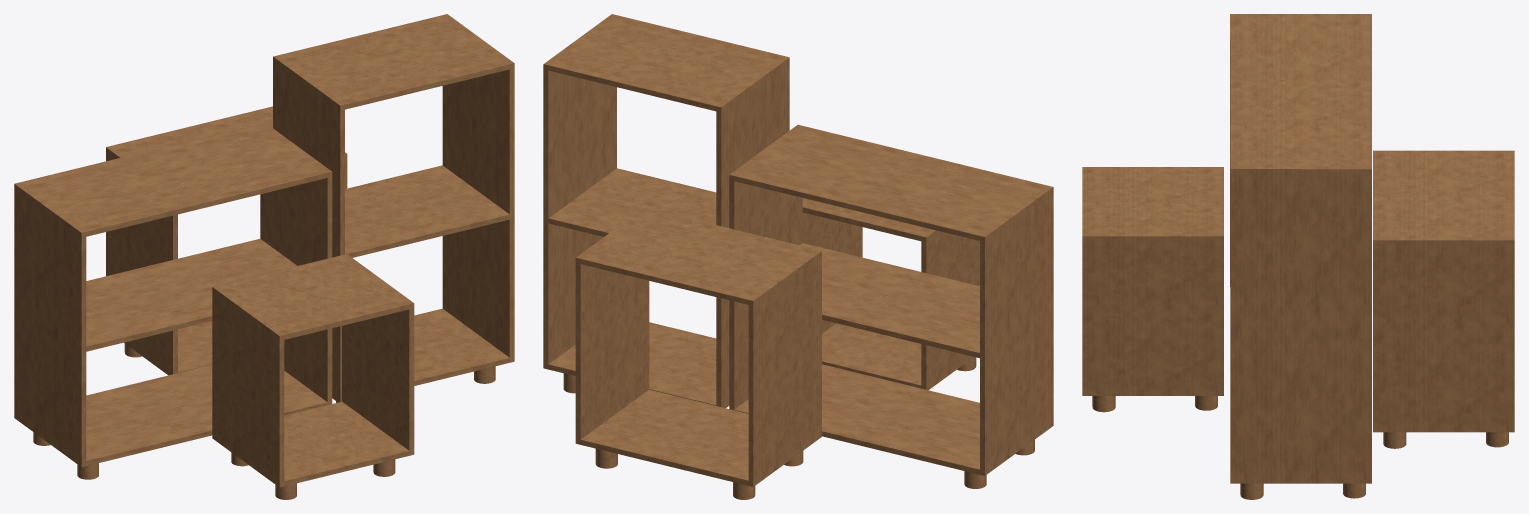
The model's file is RackDesign.fbx.
3 renders of one model, left to right at view 1: azimuth 30°, elevation 25°; view 2: azimuth 150°, elevation 25°; view 3: azimuth 270°, elevation 25°, orthographic. The views are drawn at different scales.
Parts seen in each view (by area): view 1: RackDesign; view 2: RackDesign; view 3: RackDesign.
Boxes of the visible parts, box(x1,y1,x2,y2) form: RackDesign: box(14, 14, 514, 499); RackDesign: box(543, 14, 1053, 499); RackDesign: box(1082, 14, 1514, 499).
Size of the model in its own units: 149 by 105 by 123.
